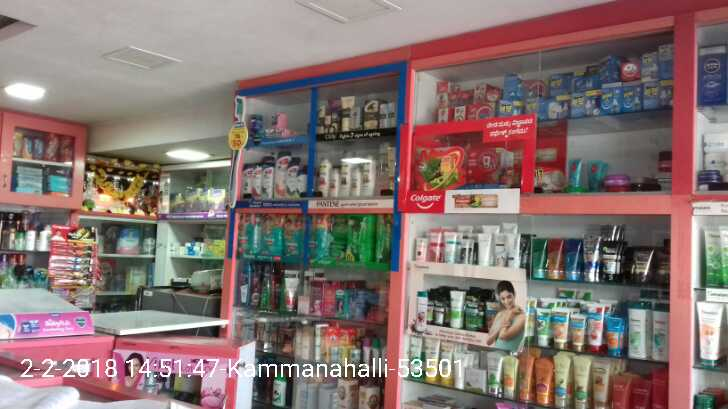beauty: (274, 148, 292, 201), (359, 153, 377, 199), (339, 96, 357, 132), (315, 154, 330, 196), (241, 161, 253, 201), (364, 100, 379, 130), (340, 156, 350, 200), (262, 164, 274, 200), (327, 167, 338, 199), (254, 161, 263, 200), (351, 162, 359, 201), (379, 102, 387, 127)
pharmacy: (348, 213, 376, 262), (310, 211, 333, 262), (240, 214, 261, 254), (282, 215, 302, 256), (261, 216, 282, 254), (332, 214, 347, 260), (251, 114, 263, 131)
